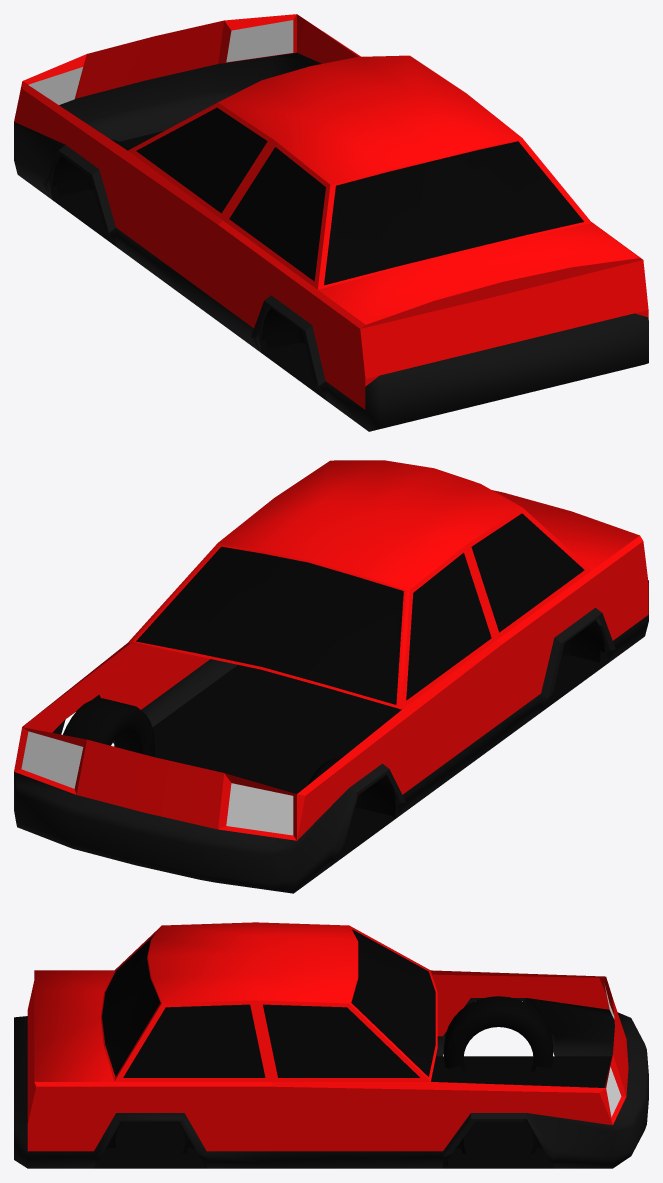
File: Carroceria.obj
The picture shows the model from 3 angles, top to bottom: view 1: azimuth 30°, elevation 25°; view 2: azimuth 150°, elevation 25°; view 3: azimuth 270°, elevation 25°; orthographic projection. The views are drawn at different scales.
Visible parts, largest first — view 1: Car; view 2: Car; view 3: Car.
Boxes of the visible parts, x1,y1,x2,y2 form: Car: (14, 14, 648, 431); Car: (14, 460, 648, 893); Car: (14, 922, 648, 1168).
Size of the model in its own units: 18.9 by 11.69 by 41.98.
